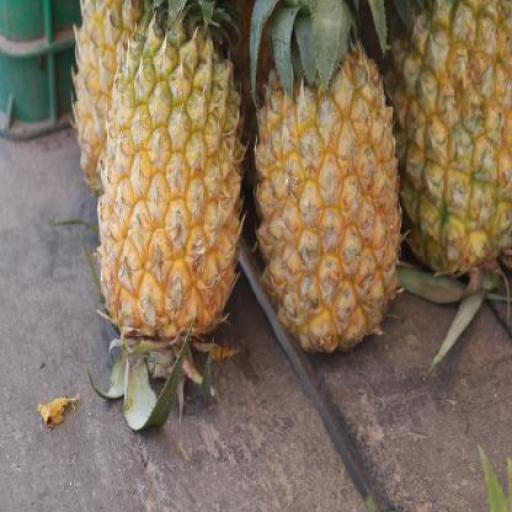------------------------------: (396, 0, 511, 267)
Pineapple - v8 v1: (98, 24, 243, 348), (256, 47, 404, 349), (74, 0, 171, 203)
